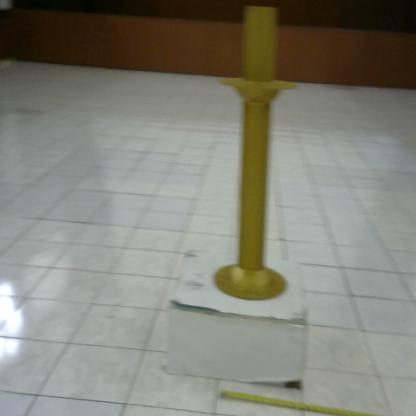pole: (209, 1, 306, 310)
